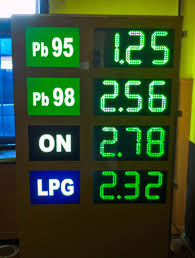LPG: (27, 168, 81, 204)
ON: (27, 124, 81, 162)
PB95: (25, 25, 79, 67)
PB98: (25, 75, 81, 116)
